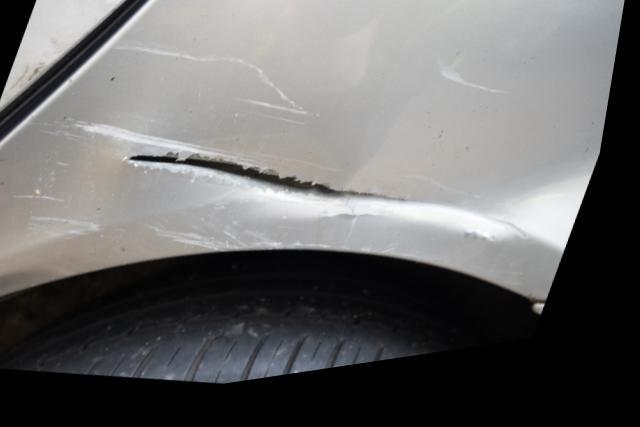crack: (132, 158, 429, 219)
scratch: (26, 118, 323, 257), (116, 41, 325, 133)
